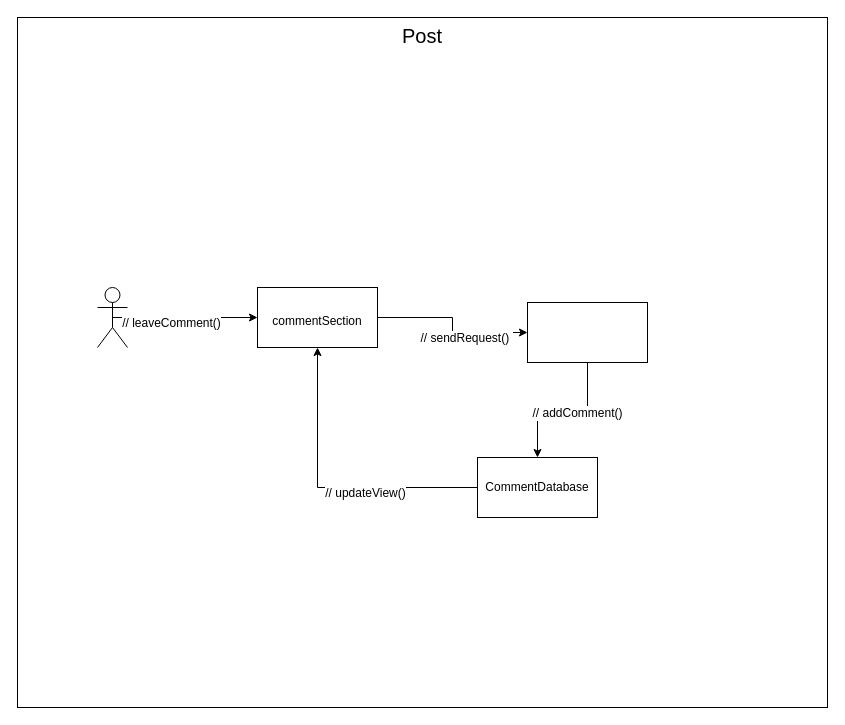
The diagram is 845 pixels wide and 725 high, and some of its shapes have lost their labels. The shapes that lost their labels are listed below. From the top down, each one's box as (x1, y1, x2, y2) in pixels, then its label:
(96, 286, 128, 348): User
(526, 302, 648, 362): CommentController
